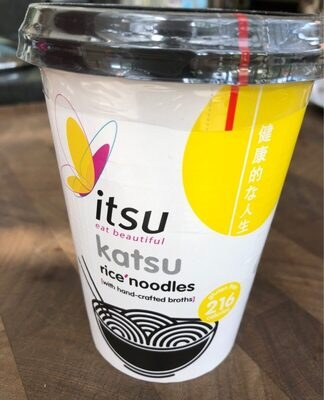Katsu rice noodles cup: (16, 20, 308, 380)
